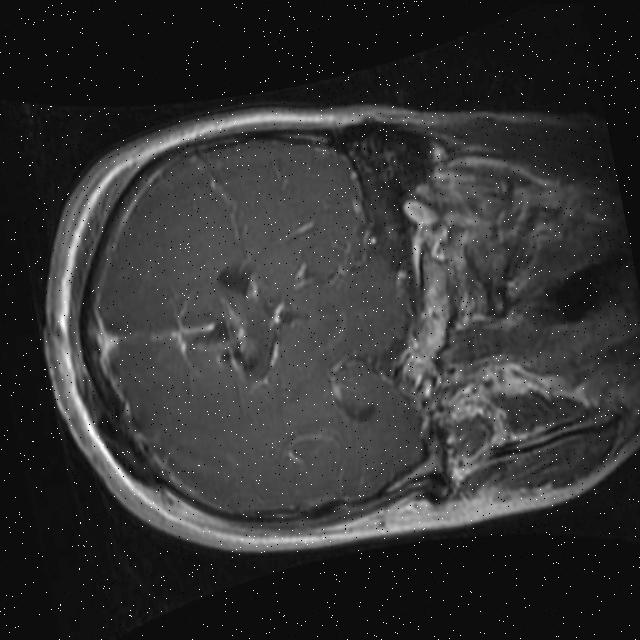Glioma: (185, 291, 262, 385), (252, 294, 309, 373), (214, 259, 263, 308)
